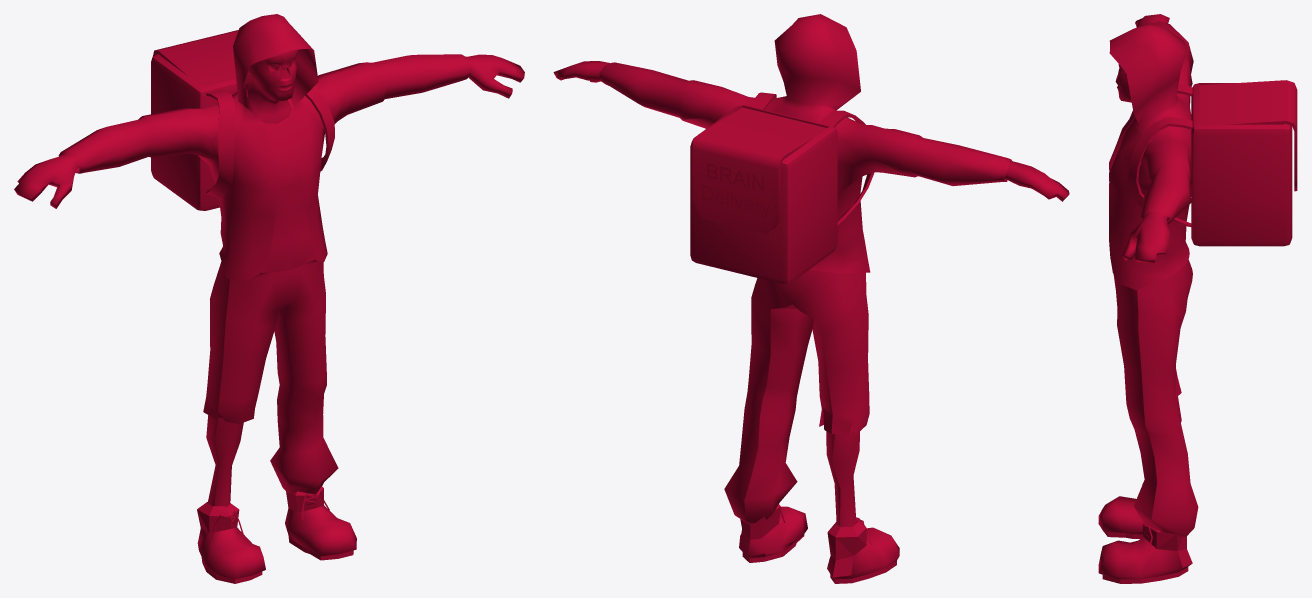
Rendered from Zombie_main.fbx.
3 views of the same model, side by side, from view 1: azimuth 30°, elevation 25°; view 2: azimuth 150°, elevation 25°; view 3: azimuth 270°, elevation 25° (orthographic). The views are drawn at different scales.
Visible parts, largest first — view 1: Zombie_main; view 2: Zombie_main; view 3: Zombie_main.
Part boxes in pixels (box(x1,y1,x2,y2)): Zombie_main: box(14, 14, 524, 583); Zombie_main: box(553, 14, 1069, 583); Zombie_main: box(1098, 14, 1297, 583).
Size of the model in its own units: 183 by 185 by 63.55.
